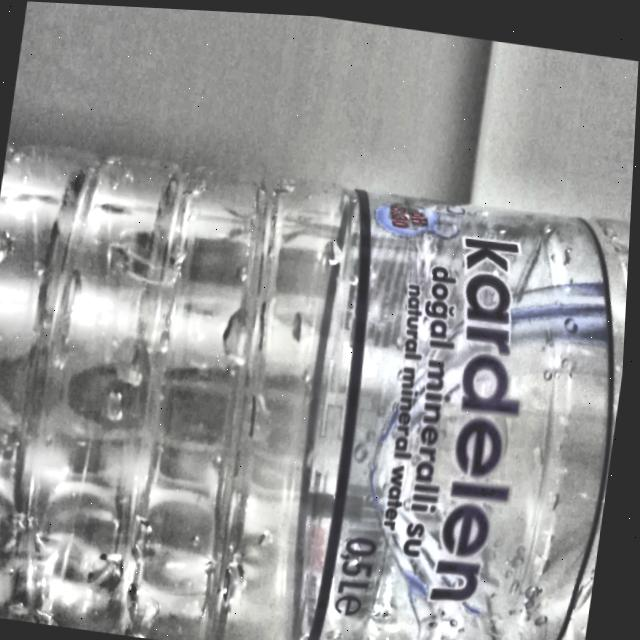plastic: (0, 141, 632, 640)
